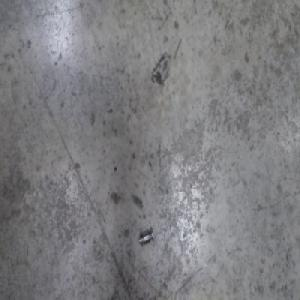Bolt: (138, 228, 154, 248)
